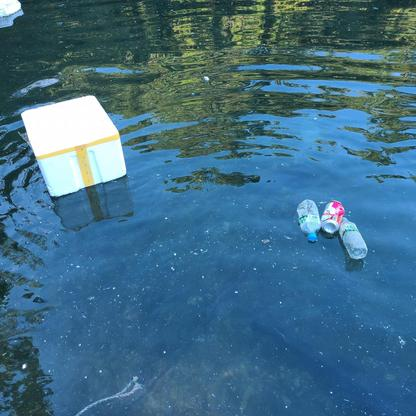can: (320, 199, 344, 236)
foam: (20, 93, 129, 199)
plastic bottle: (338, 216, 368, 261), (296, 199, 321, 243)
